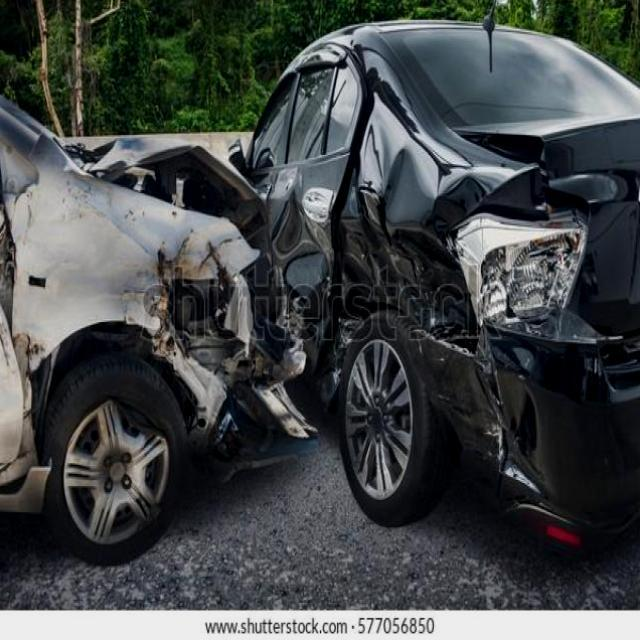accident: (0, 0, 625, 498)
